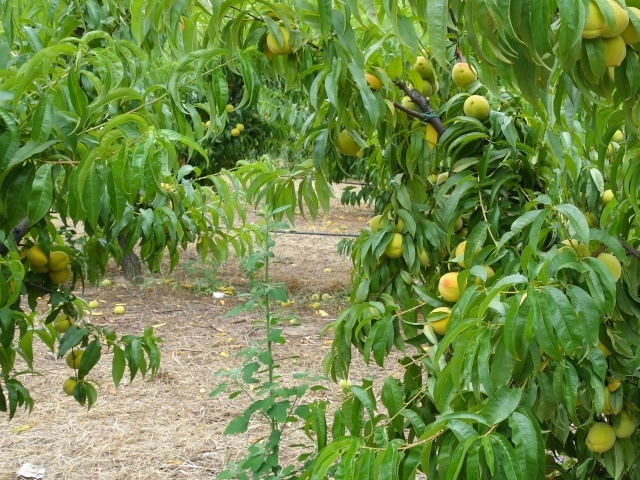peach: (580, 418, 618, 456), (597, 31, 630, 74), (261, 24, 300, 59), (433, 269, 471, 304), (592, 248, 626, 285), (332, 125, 366, 160), (422, 303, 457, 337), (579, 1, 611, 38), (604, 1, 633, 40), (461, 92, 494, 124), (453, 239, 487, 270), (360, 60, 391, 92), (447, 59, 480, 89), (609, 407, 639, 440), (22, 241, 53, 270), (380, 230, 407, 259), (409, 51, 434, 80), (50, 310, 76, 337), (44, 248, 73, 272), (413, 72, 438, 99), (366, 212, 391, 238), (63, 348, 90, 372), (46, 265, 74, 287), (59, 375, 85, 398), (447, 212, 470, 237), (602, 137, 624, 162), (605, 127, 632, 144), (599, 187, 617, 209)
